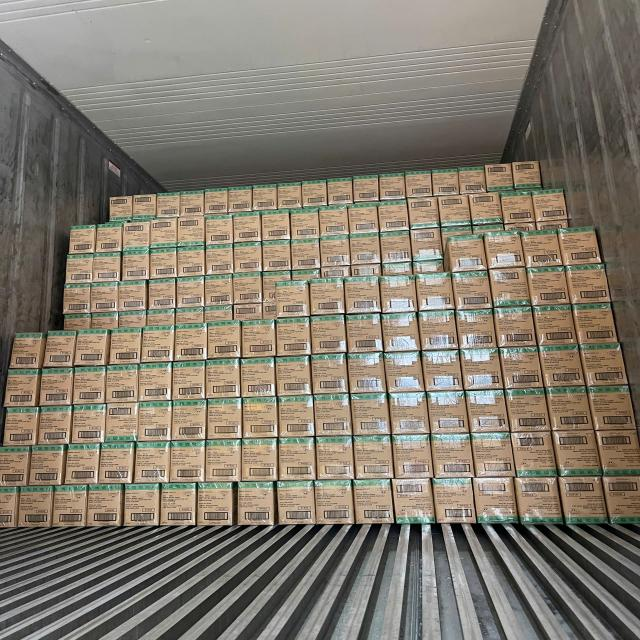Carton: (554, 430, 600, 474), (581, 345, 629, 386), (474, 480, 518, 524), (559, 478, 604, 520), (516, 479, 562, 520), (601, 476, 640, 524), (514, 434, 556, 478), (434, 479, 476, 523), (590, 392, 636, 432), (394, 479, 436, 522), (353, 480, 394, 524), (468, 392, 509, 436), (575, 304, 620, 344), (463, 348, 505, 390), (472, 437, 515, 478), (568, 266, 614, 304), (598, 431, 640, 472), (444, 232, 487, 272), (430, 392, 470, 435), (391, 393, 431, 436), (541, 348, 585, 387), (548, 394, 592, 433), (315, 482, 354, 525), (350, 395, 389, 437), (521, 228, 563, 267), (394, 440, 434, 480), (424, 352, 464, 392), (386, 351, 426, 391), (502, 348, 543, 387), (531, 267, 572, 306), (508, 396, 550, 434), (433, 441, 475, 479), (240, 440, 278, 482), (534, 310, 576, 348), (236, 489, 276, 528), (317, 441, 356, 481), (276, 486, 315, 526), (314, 396, 352, 437), (494, 310, 536, 347), (419, 313, 458, 352), (456, 311, 496, 349), (278, 442, 316, 482), (490, 269, 530, 307), (348, 352, 386, 392), (198, 486, 235, 526), (353, 442, 393, 479), (416, 273, 454, 311), (382, 316, 420, 354), (454, 272, 493, 309), (278, 399, 315, 438), (1, 407, 38, 446), (135, 444, 171, 484), (206, 442, 242, 482), (347, 315, 383, 355), (206, 400, 242, 440), (160, 488, 197, 526), (313, 318, 350, 356), (170, 443, 206, 482), (275, 280, 310, 320), (560, 232, 602, 265), (124, 489, 161, 526), (312, 357, 348, 395), (486, 232, 524, 268), (243, 400, 278, 439), (531, 188, 571, 222), (240, 361, 276, 398), (381, 276, 417, 313), (100, 446, 135, 484), (174, 404, 209, 442), (276, 359, 312, 395), (88, 490, 124, 526), (276, 321, 312, 357), (3, 370, 39, 406), (206, 362, 241, 399), (19, 492, 54, 529), (498, 191, 536, 225), (412, 230, 444, 270), (65, 447, 100, 483), (30, 449, 65, 485), (172, 364, 206, 401), (105, 404, 138, 442), (138, 406, 172, 442), (345, 279, 381, 313), (207, 324, 241, 360), (242, 321, 276, 357), (54, 492, 88, 528), (38, 408, 71, 445), (73, 366, 106, 403), (42, 368, 75, 405), (9, 332, 42, 369), (109, 364, 141, 402), (76, 328, 108, 366), (310, 282, 345, 316), (139, 366, 172, 402), (72, 408, 105, 444), (178, 327, 210, 363), (44, 330, 75, 367), (0, 448, 30, 486), (108, 332, 141, 365), (469, 193, 502, 226), (142, 330, 174, 364), (439, 195, 471, 229), (346, 203, 380, 235), (316, 206, 352, 236), (409, 198, 440, 230), (379, 201, 410, 233), (381, 233, 412, 264), (350, 236, 381, 266), (63, 282, 92, 314), (512, 160, 542, 190), (91, 252, 121, 282), (264, 242, 293, 272), (234, 275, 264, 304), (206, 248, 235, 278), (290, 214, 319, 244), (320, 239, 350, 268), (484, 163, 514, 192), (90, 282, 119, 312), (177, 216, 205, 247), (64, 253, 92, 284), (235, 246, 263, 276), (290, 242, 320, 270), (458, 166, 488, 194), (122, 221, 150, 251), (150, 218, 177, 249), (176, 279, 204, 308), (234, 217, 263, 245), (118, 283, 147, 311), (177, 250, 205, 279), (351, 174, 379, 203), (68, 225, 96, 254), (148, 280, 175, 310), (150, 251, 177, 281), (123, 252, 150, 282), (96, 222, 122, 253), (206, 278, 234, 306), (378, 172, 406, 200), (406, 170, 434, 198), (207, 218, 234, 247), (264, 216, 292, 243), (326, 177, 354, 204), (432, 168, 460, 195), (252, 183, 279, 210), (277, 182, 304, 209), (301, 179, 328, 206), (0, 488, 18, 527), (229, 185, 253, 213), (231, 301, 262, 322), (180, 190, 204, 217), (204, 187, 228, 214), (132, 193, 156, 219), (109, 196, 133, 220), (157, 192, 180, 217)
